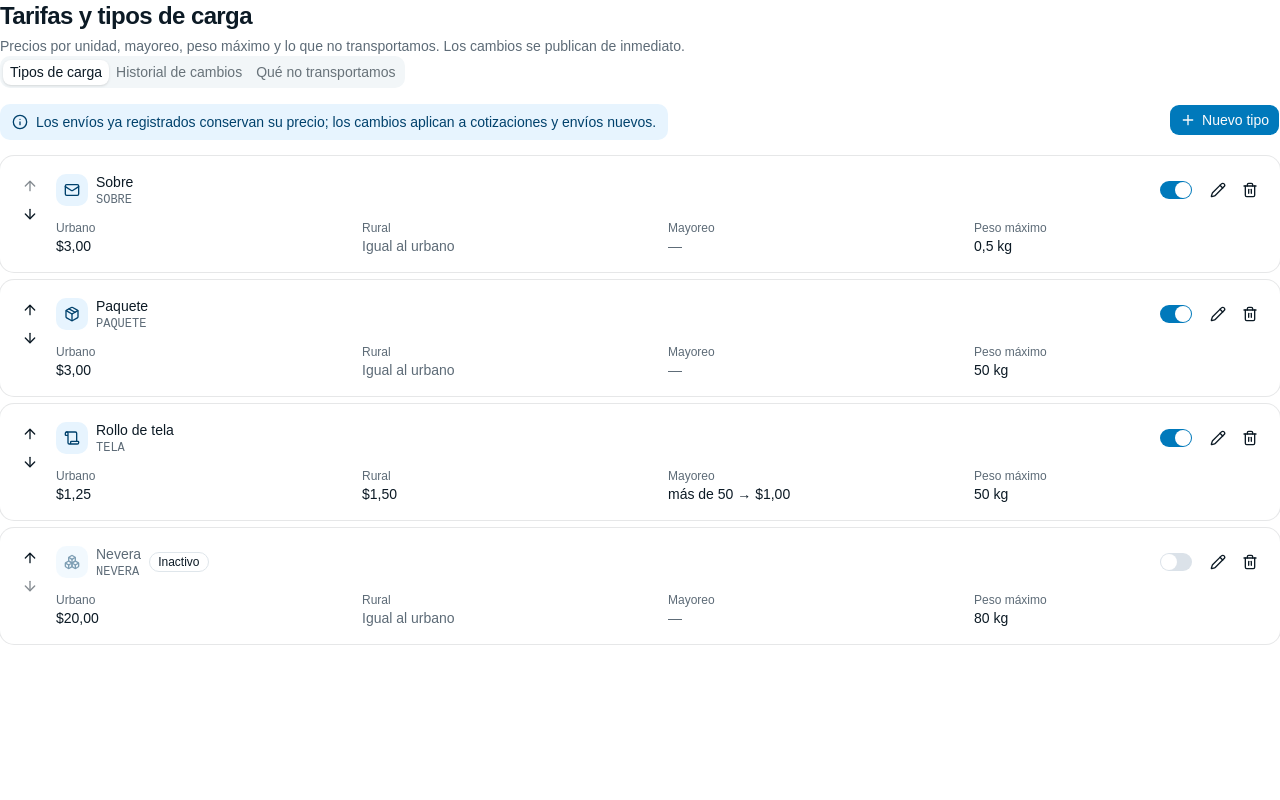
CatalogoPage — tipos de carga › desactivar pide confirmación; cancelar no cambia nada
What coordinates should you click on to do the following:
click the switch named "Desactivar Paquete"
I would click on:
 (1176, 314)
Its box is [1160,305,1192,323].
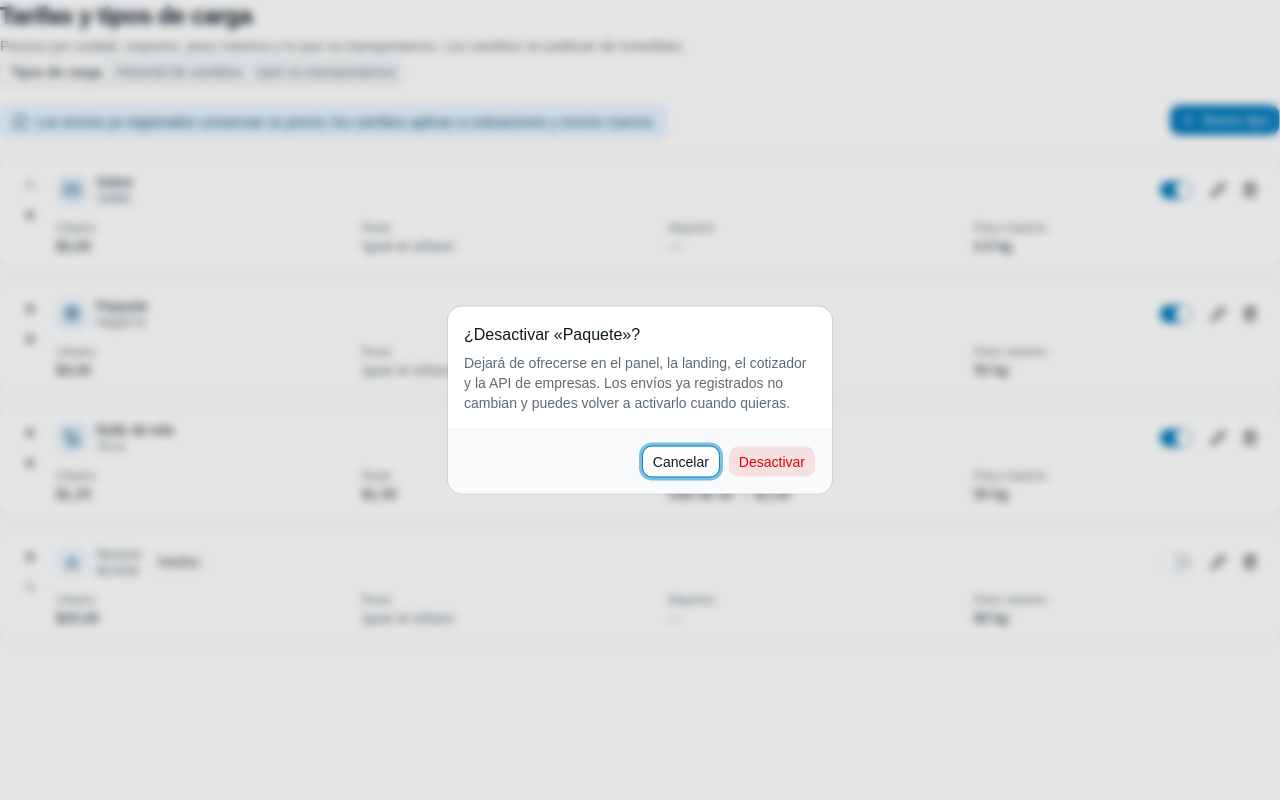
expect the dialog shows "¿Desactivar «Paquete»?": met, box [464,326,640,342]
What coordinates should you click on to do the following:
click the button "Cancelar"
I would click on:
 (681, 462)
Its box is [642,446,720,478].
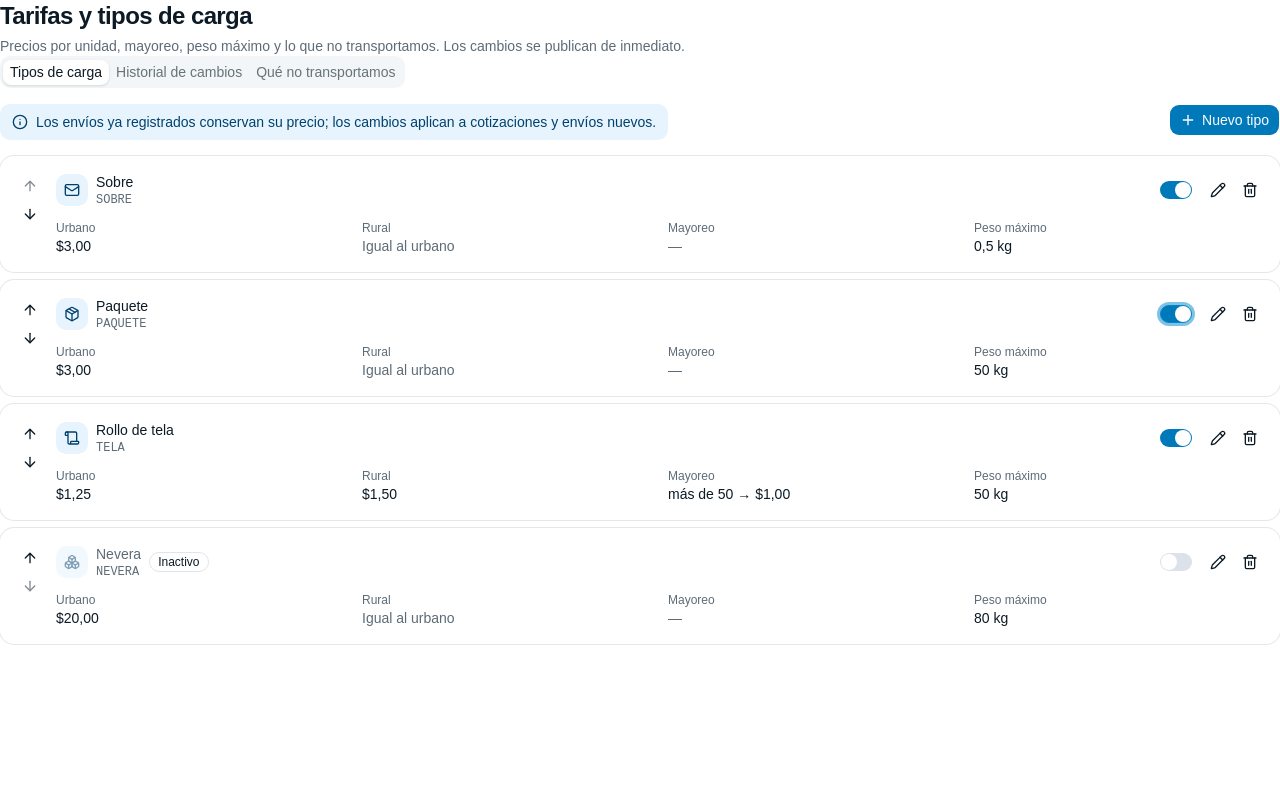
expect the dialog is gone: met
What coordinates should you click on to do the following:
click the switch named "Desactivar Paquete"
I would click on:
 (1176, 314)
Its box is [1160,305,1192,323].
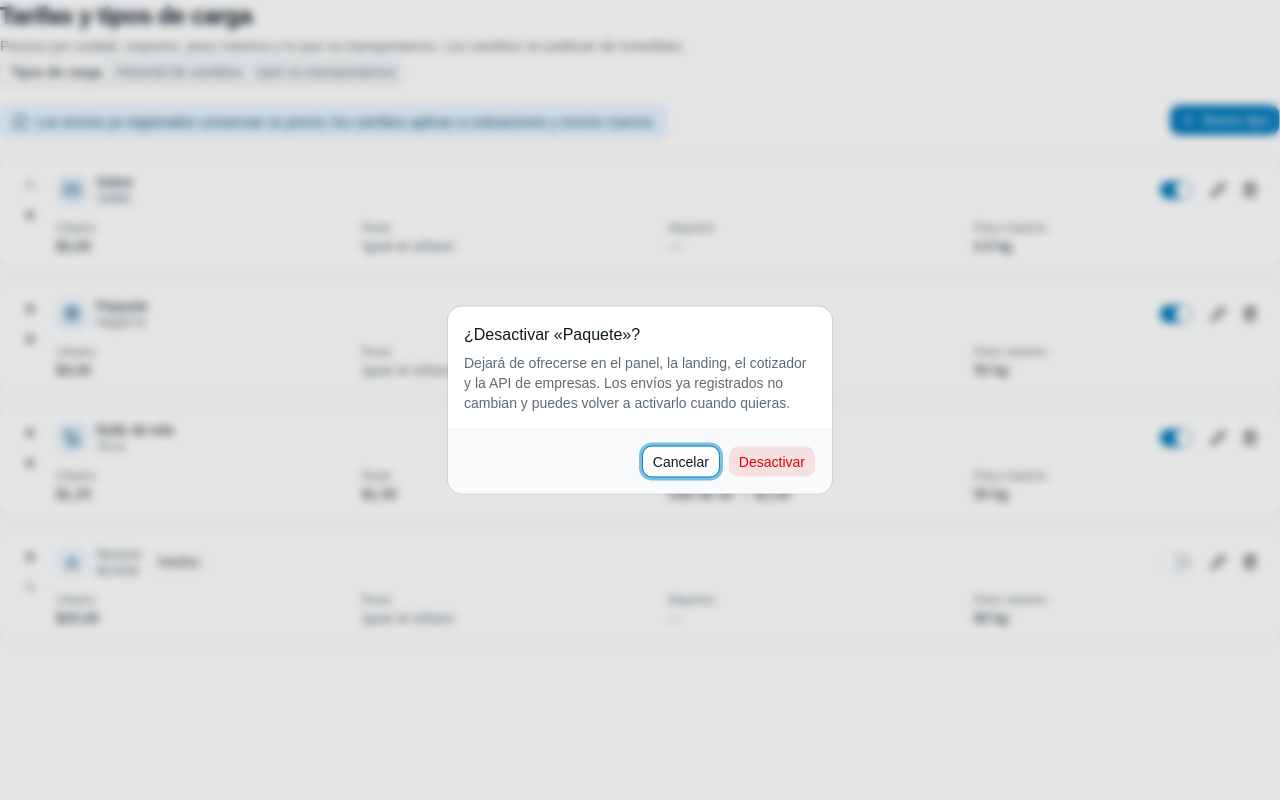
What coordinates should you click on to do the following:
click the button "Desactivar"
I would click on:
 (772, 462)
Its box is [728,446,816,478].
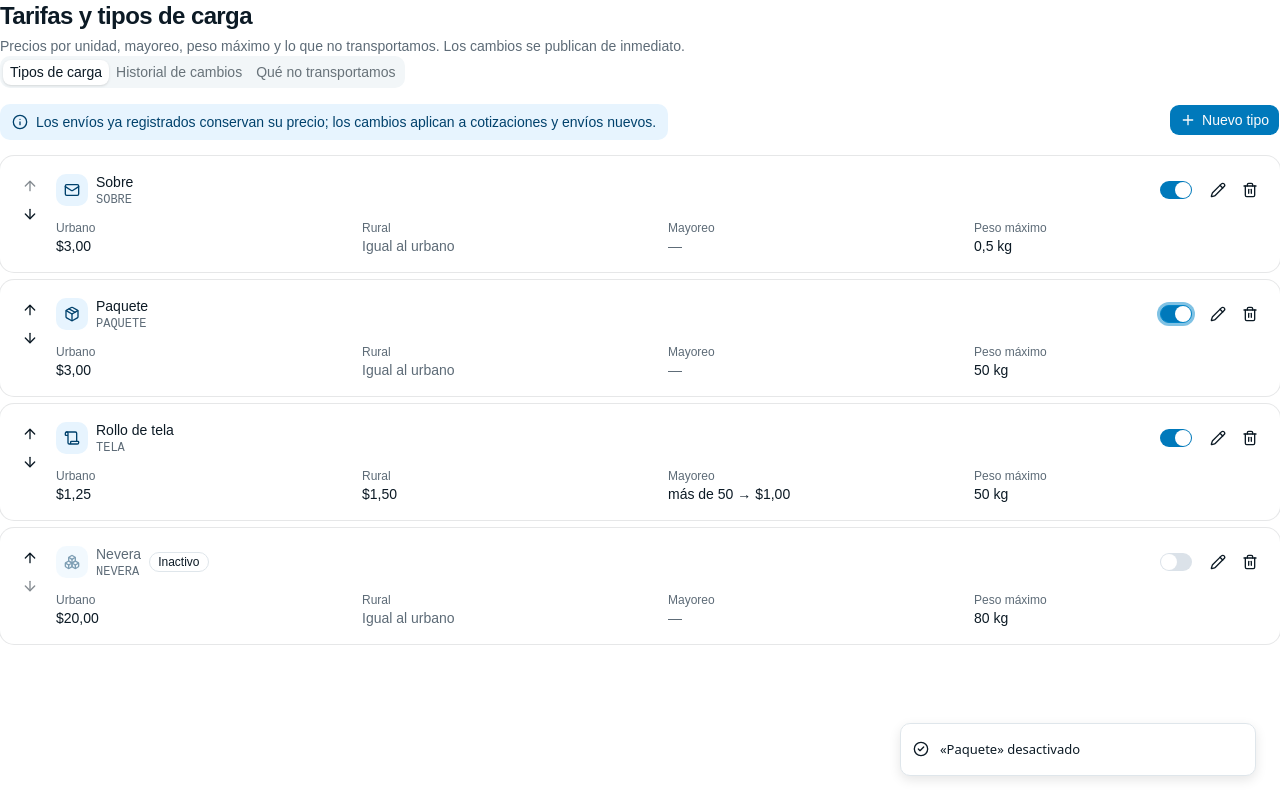
expect the text "«Paquete» desactivado" is shown: met, box [940,740,1080,759]
